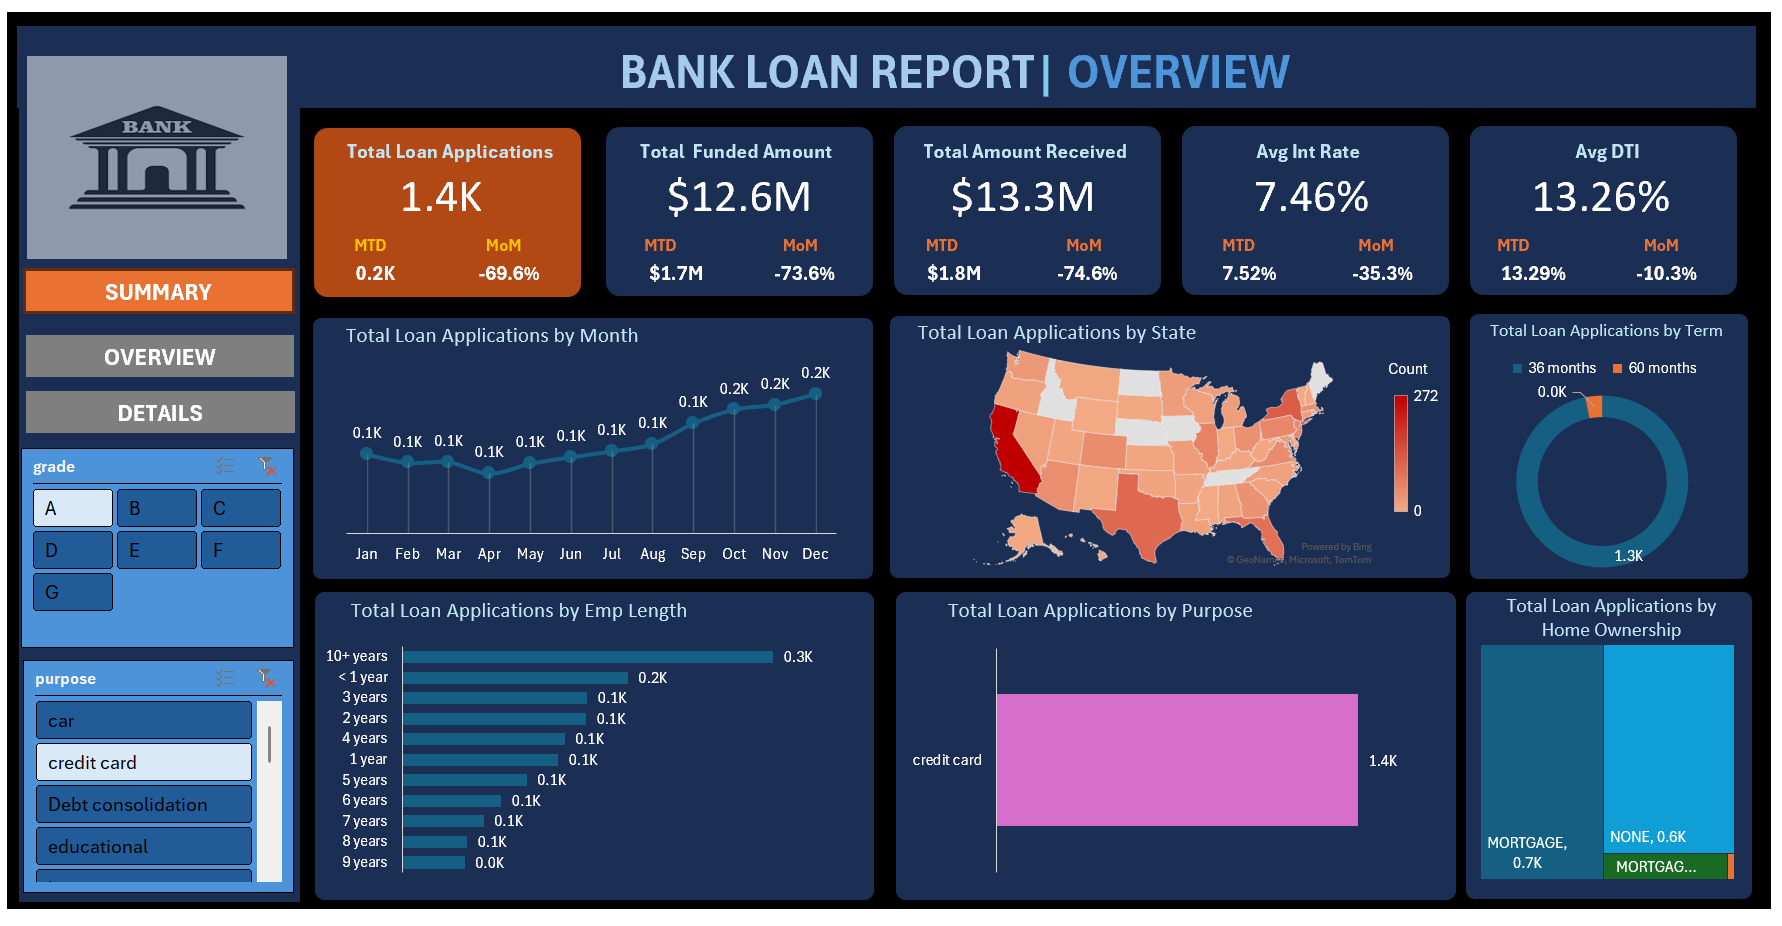

This screenshot's page, from the dashboard's own definition file:
{"tool":"powerbi","page":{"name":"Overview","canvas":[1280,720],"ordinal":1},"visuals":[{"type":"shape","box":[0,0,1280,54],"z":0},{"type":"shape","box":[420.1,64.3,195.1,117.3],"z":0,"group":"g4"},{"type":"shape","box":[636.6,64.3,195.1,117.3],"z":0,"group":"g3"},{"type":"shape","box":[851.6,64.3,195.1,117.3],"z":0,"group":"g6"},{"type":"shape","box":[1068.1,64.3,195.1,117.3],"z":0,"group":"g7"},{"type":"shape","box":[204.7,64.8,195.1,117.3],"z":0,"group":"g1"},{"type":"shape","box":[0,54,192.5,665.7],"z":1000},{"type":"card","fields":{"Values":["financial_loan.Total Funded Amount"]},"box":[420.4,86.7,195.1,47.5],"z":1000,"group":"g4"},{"type":"card","fields":{"Values":["financial_loan.Total Amount Received"]},"box":[636.6,86.7,195.1,47.5],"z":1000,"group":"g3"},{"type":"card","fields":{"Values":["financial_loan.Avg Interest Rate"]},"box":[851.6,86.7,195.1,47.5],"z":1000,"group":"g6"},{"type":"card","fields":{"Values":["financial_loan.Avg DTI"]},"box":[1068.1,86.7,195.1,47.5],"z":1000,"group":"g7"},{"type":"card","fields":{"Values":["financial_loan.Total Loan Applications"]},"box":[204.7,87.2,195.1,47.5],"z":1000,"group":"g1"},{"type":"textbox","box":[420.4,64.3,195.1,46.1],"z":2000,"group":"g4"},{"type":"textbox","box":[636.6,64.3,195.1,46.1],"z":2000,"group":"g3"},{"type":"textbox","box":[851.6,64.3,195.1,46.1],"z":2000,"group":"g6"},{"type":"textbox","box":[1068.1,64.3,195.1,46.1],"z":2000,"group":"g7"},{"type":"textbox","box":[204.7,64.8,195.1,46.1],"z":2000,"group":"g1"},{"type":"shape","box":[204.2,193.8,405,235],"z":2000},{"type":"textbox","box":[416.3,0,448.2,76.2],"z":3000},{"type":"card","title":"MTD","fields":{"Values":["financial_loan.MTD Funded Amount"]},"box":[420.4,134.2,52.7,47.5],"z":3000,"group":"g4"},{"type":"card","title":"MTD","fields":{"Values":["financial_loan.MTD Total Amount Received"]},"box":[636.6,134.2,52.7,47.5],"z":3000,"group":"g3"},{"type":"card","title":"MTD","fields":{"Values":["financial_loan.MTD Average Int Rate"]},"box":[851.6,134.2,52.7,47.5],"z":3000,"group":"g6"},{"type":"card","title":"MTD","fields":{"Values":["financial_loan.MTD Average DTI"]},"box":[1068.1,134.2,52.7,47.5],"z":3000,"group":"g7"},{"type":"card","title":"MTD","fields":{"Values":["financial_loan.MTD Loan Applications"]},"box":[204.7,134.7,52.7,47.5],"z":3000,"group":"g1"},{"type":"group","id":"g1","title":"Group 1","box":[204.7,64.8,194.5,117.2],"z":4000},{"type":"card","title":"MOM","fields":{"Values":["financial_loan.MOM Total Funded Amount"]},"box":[550.9,134.2,52.7,47.5],"z":4000,"group":"g4"},{"type":"card","title":"MOM","fields":{"Values":["financial_loan.MOM Total Amount Recieved"]},"box":[767.1,134.2,52.7,47.5],"z":4000,"group":"g3"},{"type":"card","title":"MOM","fields":{"Values":["financial_loan.MOM Average Int Rate"]},"box":[982.1,134.2,52.7,47.5],"z":4000,"group":"g6"},{"type":"card","title":"MOM","fields":{"Values":["financial_loan.MOM Average dti"]},"box":[1198.6,134.2,52.7,47.5],"z":4000,"group":"g7"},{"type":"card","title":"MOM","fields":{"Values":["financial_loan.MOM Loan Application"]},"box":[335.2,134.7,52.7,47.5],"z":4000,"group":"g1"},{"type":"group","id":"g2","title":"Group 1","box":[420.1,64.3,195.8,116.9],"z":5000},{"type":"group","id":"g3","title":"Group 3","box":[636.6,64.3,195.1,117.3],"z":5001,"group":"g5"},{"type":"group","id":"g4","title":"Group 2","box":[420.1,64.3,195.4,117.3],"z":5005,"group":"g2"},{"type":"group","id":"g5","title":"Group 2","box":[636.6,64.3,194.3,116.9],"z":6000},{"type":"group","id":"g6","title":"Group 3","box":[851.6,64.3,195.8,116.9],"z":7000},{"type":"group","id":"g7","title":"Group 3","box":[1068.1,64.3,194.3,118.4],"z":8000},{"type":"slicer","fields":{"Values":["financial_loan.address_state"]},"box":[4.6,470.4,174.3,46.3],"z":9000},{"type":"textbox","box":[4.6,434.9,91,29.3],"z":10000},{"type":"slicer","fields":{"Values":["financial_loan.grade"]},"box":[4.6,561.3,174.3,46.3],"z":11000},{"type":"slicer","fields":{"Values":["financial_loan.Good loan VS Bad loan"]},"box":[4.6,658.5,174.3,46.3],"z":12000},{"type":"textbox","box":[4.6,532,91,29.3],"z":13000},{"type":"textbox","box":[5.3,628.8,138.4,30.3],"z":14000},{"type":"areaChart","fields":{"Y":["financial_loan.Total Amount Received","financial_loan.Total Funded Amount","financial_loan.Total Loan Applications"],"Category":["Date Table.Month"]},"box":[216.2,193.8,375.7,234.6],"z":15000},{"type":"shape","box":[622.2,193.8,359.9,234.6],"z":18000},{"type":"shapeMap","fields":{"Value":["financial_loan.Total Amount Received"],"Category":["financial_loan.address_state"]},"box":[622.2,193.8,359.9,241.2],"z":19000},{"type":"shape","box":[992.6,193.8,270.2,234.6],"z":20000},{"type":"donutChart","fields":{"Y":["financial_loan.Total Amount Received","financial_loan.Total Funded Amount","financial_loan.Total Loan Applications"],"Category":["financial_loan.term"]},"box":[999.2,195.1,258.4,224.1],"z":21000},{"type":"shape","box":[204.7,443.6,404.9,261.6],"z":22000},{"type":"barChart","fields":{"Y":["financial_loan.Total Amount Received","financial_loan.Total Funded Amount","financial_loan.Total Loan Applications"],"Category":["financial_loan.emp_length"]},"box":[204.3,449.5,399.4,255.7],"z":23000},{"type":"shape","box":[622.2,444.2,359.9,261],"z":24000},{"type":"barChart","fields":{"Y":["financial_loan.Total Amount Received","financial_loan.Total Funded Amount","financial_loan.Total Loan Applications"],"Category":["financial_loan.purpose"]},"box":[636.7,464,345.4,241.2],"z":25000},{"type":"shape","box":[999.7,447.2,270.6,257.6],"z":26000},{"type":"treemap","fields":{"Values":["financial_loan.Total Amount Received","financial_loan.Total Funded Amount","financial_loan.Total Loan Applications"],"Group":["financial_loan.home_ownership"]},"box":[1008.4,458.7,271.6,236],"z":27000},{"type":"pageNavigator","box":[9.1,266.2,174,153.6],"z":28000},{"type":"image","box":[10.2,64.8,172.9,172.9],"z":29000}]}

Visuals, with their boxes on the page's 1280x720 design canvas (x1, y1, x2, y2). These are canvas units, not pixel positions in the 1782x926 screenshot, which may show the page scaled, cropped or inside an application window:
shape: {"left": 0, "top": 0, "right": 1280, "bottom": 54}
shape: {"left": 420, "top": 64, "right": 615, "bottom": 182}
shape: {"left": 637, "top": 64, "right": 832, "bottom": 182}
shape: {"left": 852, "top": 64, "right": 1047, "bottom": 182}
shape: {"left": 1068, "top": 64, "right": 1263, "bottom": 182}
shape: {"left": 205, "top": 65, "right": 400, "bottom": 182}
shape: {"left": 0, "top": 54, "right": 192, "bottom": 720}
card - financial_loan.Total Funded Amount: {"left": 420, "top": 87, "right": 616, "bottom": 134}
card - financial_loan.Total Amount Received: {"left": 637, "top": 87, "right": 832, "bottom": 134}
card - financial_loan.Avg Interest Rate: {"left": 852, "top": 87, "right": 1047, "bottom": 134}
card - financial_loan.Avg DTI: {"left": 1068, "top": 87, "right": 1263, "bottom": 134}
card - financial_loan.Total Loan Applications: {"left": 205, "top": 87, "right": 400, "bottom": 135}
textbox: {"left": 420, "top": 64, "right": 616, "bottom": 110}
textbox: {"left": 637, "top": 64, "right": 832, "bottom": 110}
textbox: {"left": 852, "top": 64, "right": 1047, "bottom": 110}
textbox: {"left": 1068, "top": 64, "right": 1263, "bottom": 110}
textbox: {"left": 205, "top": 65, "right": 400, "bottom": 111}
shape: {"left": 204, "top": 194, "right": 609, "bottom": 429}
textbox: {"left": 416, "top": 0, "right": 864, "bottom": 76}
"MTD" card: {"left": 420, "top": 134, "right": 473, "bottom": 182}
"MTD" card: {"left": 637, "top": 134, "right": 689, "bottom": 182}
"MTD" card: {"left": 852, "top": 134, "right": 904, "bottom": 182}
"MTD" card: {"left": 1068, "top": 134, "right": 1121, "bottom": 182}
"MTD" card: {"left": 205, "top": 135, "right": 257, "bottom": 182}
"Group 1" group: {"left": 205, "top": 65, "right": 399, "bottom": 182}
"MOM" card: {"left": 551, "top": 134, "right": 604, "bottom": 182}
"MOM" card: {"left": 767, "top": 134, "right": 820, "bottom": 182}
"MOM" card: {"left": 982, "top": 134, "right": 1035, "bottom": 182}
"MOM" card: {"left": 1199, "top": 134, "right": 1251, "bottom": 182}
"MOM" card: {"left": 335, "top": 135, "right": 388, "bottom": 182}
"Group 1" group: {"left": 420, "top": 64, "right": 616, "bottom": 181}
"Group 3" group: {"left": 637, "top": 64, "right": 832, "bottom": 182}
"Group 2" group: {"left": 420, "top": 64, "right": 616, "bottom": 182}
"Group 2" group: {"left": 637, "top": 64, "right": 831, "bottom": 181}
"Group 3" group: {"left": 852, "top": 64, "right": 1047, "bottom": 181}
"Group 3" group: {"left": 1068, "top": 64, "right": 1262, "bottom": 183}
slicer - financial_loan.address_state: {"left": 5, "top": 470, "right": 179, "bottom": 517}
textbox: {"left": 5, "top": 435, "right": 96, "bottom": 464}
slicer - financial_loan.grade: {"left": 5, "top": 561, "right": 179, "bottom": 608}
slicer - financial_loan.Good loan VS Bad loan: {"left": 5, "top": 658, "right": 179, "bottom": 705}
textbox: {"left": 5, "top": 532, "right": 96, "bottom": 561}
textbox: {"left": 5, "top": 629, "right": 144, "bottom": 659}
areaChart - financial_loan.Total Amount Received x financial_loan.Total Funded Amount: {"left": 216, "top": 194, "right": 592, "bottom": 428}
shape: {"left": 622, "top": 194, "right": 982, "bottom": 428}
shapeMap - financial_loan.Total Amount Received x financial_loan.address_state: {"left": 622, "top": 194, "right": 982, "bottom": 435}
shape: {"left": 993, "top": 194, "right": 1263, "bottom": 428}
donutChart - financial_loan.Total Amount Received x financial_loan.Total Funded Amount: {"left": 999, "top": 195, "right": 1258, "bottom": 419}
shape: {"left": 205, "top": 444, "right": 610, "bottom": 705}
barChart - financial_loan.Total Amount Received x financial_loan.Total Funded Amount: {"left": 204, "top": 450, "right": 604, "bottom": 705}
shape: {"left": 622, "top": 444, "right": 982, "bottom": 705}
barChart - financial_loan.Total Amount Received x financial_loan.Total Funded Amount: {"left": 637, "top": 464, "right": 982, "bottom": 705}
shape: {"left": 1000, "top": 447, "right": 1270, "bottom": 705}
treemap - financial_loan.Total Amount Received x financial_loan.Total Funded Amount: {"left": 1008, "top": 459, "right": 1280, "bottom": 695}
pageNavigator: {"left": 9, "top": 266, "right": 183, "bottom": 420}
image: {"left": 10, "top": 65, "right": 183, "bottom": 238}
